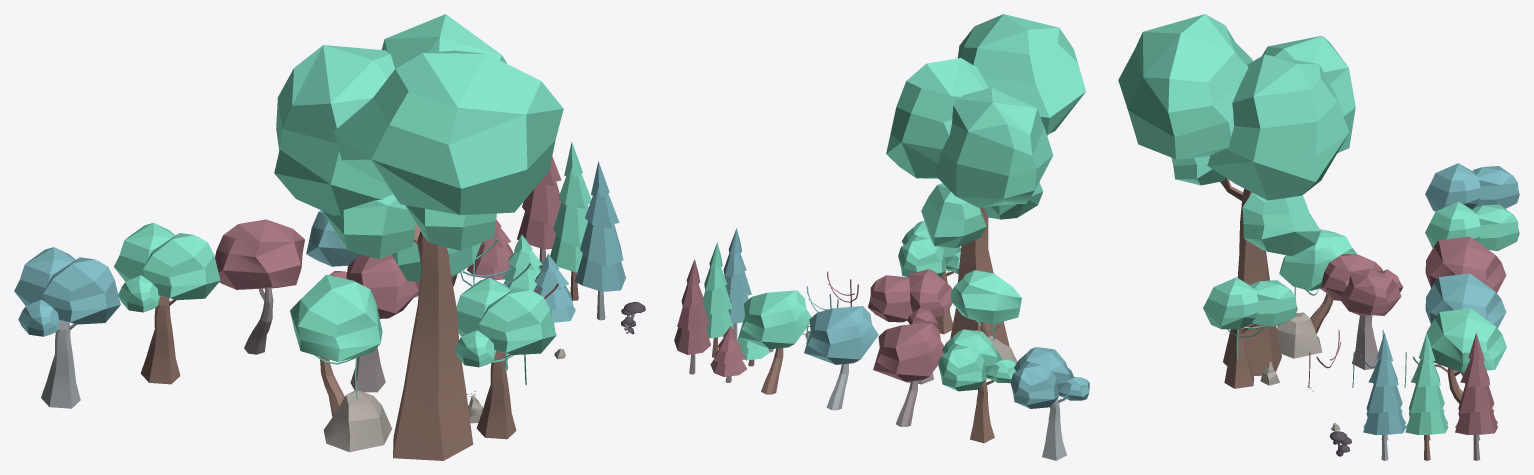
Rendered from Asset_Pack01.fbx.
3 views of the same model, side by side, from view 1: azimuth 30°, elevation 25°; view 2: azimuth 150°, elevation 25°; view 3: azimuth 270°, elevation 25° (orthographic). The views are drawn at different scales.
Visible parts, largest first — view 1: LargeTree_Grasslands, Tree_Sky, Tree_Grasslands, VineTree_Grasslands, CurvedVineTree_Grasslands, CurvedTree_Magenta, LargePineTree_Sky, Tree_Magenta, LargePineTree_Grasslands, RockMedium, LargePineTree_Magenta, CurvedTree_Sky (+3 smaller); view 2: LargeTree_Grasslands, Tree_Sky, Tree_Grasslands, CurvedTree_Sky, CurvedTree_Grasslands, CurvedTree_Magenta, Tree_Magenta, CurvedVineTree_Grasslands, VineTree_Grasslands, LargePineTree_Magenta, LargePineTree_Grasslands, LargePineTree_Sky (+2 smaller); view 3: LargeTree_Grasslands, VineTree_Grasslands, Tree_Magenta, CurvedTree_Grasslands, Tree_Sky, Tree_Grasslands, CurvedTree_Magenta, CurvedVineTree_Grasslands, CurvedTree_Sky, LargePineTree_Magenta, LargePineTree_Sky, LargePineTree_Grasslands (+1 smaller).
Part boxes in pixels (x1,y1,x2,y2): LargeTree_Grasslands: [274, 14, 563, 460]; Tree_Sky: [14, 247, 120, 408]; Tree_Grasslands: [114, 223, 220, 384]; VineTree_Grasslands: [455, 277, 556, 439]; CurvedVineTree_Grasslands: [290, 274, 382, 416]; CurvedTree_Magenta: [215, 219, 304, 354]; LargePineTree_Sky: [575, 161, 625, 320]; Tree_Magenta: [329, 254, 419, 392]; LargePineTree_Grasslands: [550, 141, 591, 300]; RockMedium: [323, 390, 392, 452]; LargePineTree_Magenta: [517, 156, 561, 268]; CurvedTree_Sky: [306, 210, 363, 266]; LargeTree_Grasslands: [886, 14, 1085, 346]; Tree_Sky: [1010, 347, 1089, 460]; Tree_Grasslands: [938, 329, 1016, 443]; CurvedTree_Sky: [804, 306, 878, 410]; CurvedTree_Grasslands: [738, 290, 811, 394]; CurvedTree_Magenta: [873, 323, 943, 426]; Tree_Magenta: [868, 269, 952, 384]; CurvedVineTree_Grasslands: [950, 270, 1021, 339]; VineTree_Grasslands: [898, 220, 960, 334]; LargePineTree_Magenta: [674, 259, 710, 374]; LargePineTree_Grasslands: [702, 242, 733, 357]; LargePineTree_Sky: [723, 228, 751, 340]; LargeTree_Grasslands: [1118, 14, 1355, 375]; VineTree_Grasslands: [1203, 277, 1297, 388]; Tree_Magenta: [1320, 254, 1403, 369]; CurvedTree_Grasslands: [1426, 308, 1506, 403]; Tree_Sky: [1425, 163, 1519, 211]; Tree_Grasslands: [1425, 201, 1519, 250]; CurvedTree_Magenta: [1425, 236, 1506, 292]; CurvedVineTree_Grasslands: [1279, 229, 1357, 333]; CurvedTree_Sky: [1425, 273, 1506, 376]; LargePineTree_Magenta: [1455, 333, 1497, 460]; LargePineTree_Sky: [1363, 333, 1405, 460]; LargePineTree_Grasslands: [1405, 333, 1448, 460].
Size of the model in its own units: 187 by 137 by 148.
